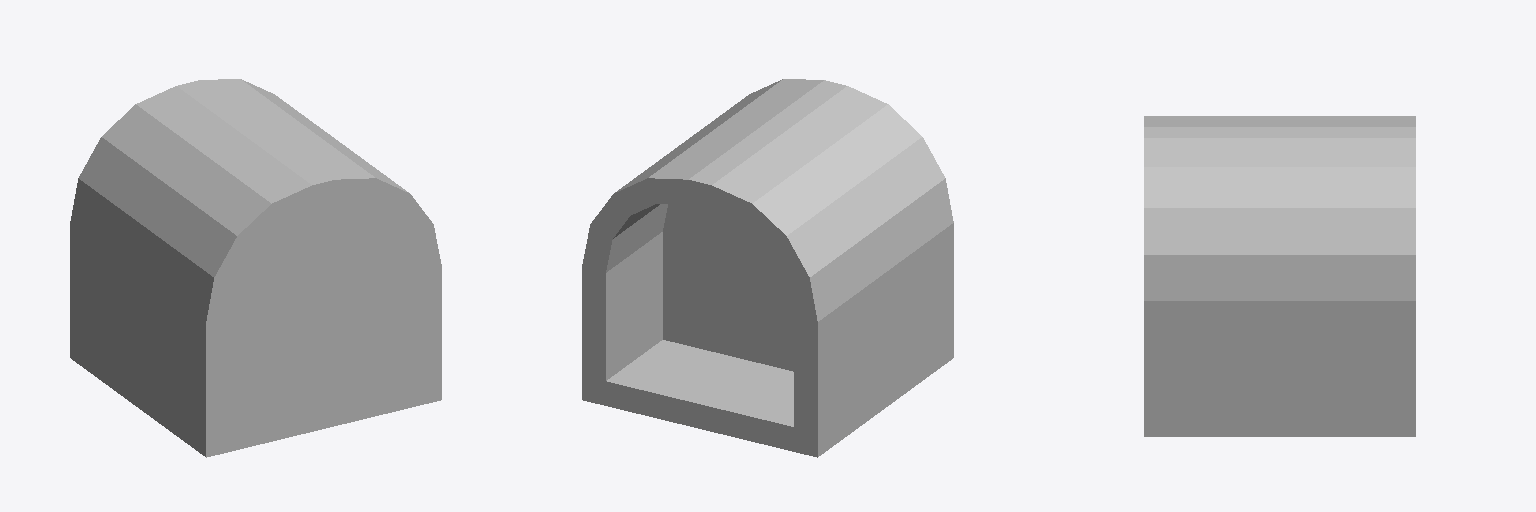
The model's file is window.obj.
3 renders of one model, left to right at view 1: azimuth 30°, elevation 25°; view 2: azimuth 150°, elevation 25°; view 3: azimuth 270°, elevation 25°, orthographic.
Parts seen in each view (by area): view 1: Cube; view 2: Cube; view 3: Cube.
Boxes of the visible parts, x1,y1,x2,y2 form: Cube: [70, 79, 441, 457]; Cube: [582, 79, 953, 457]; Cube: [1144, 116, 1415, 436].
Size of the model in its own units: 2 by 2 by 2.